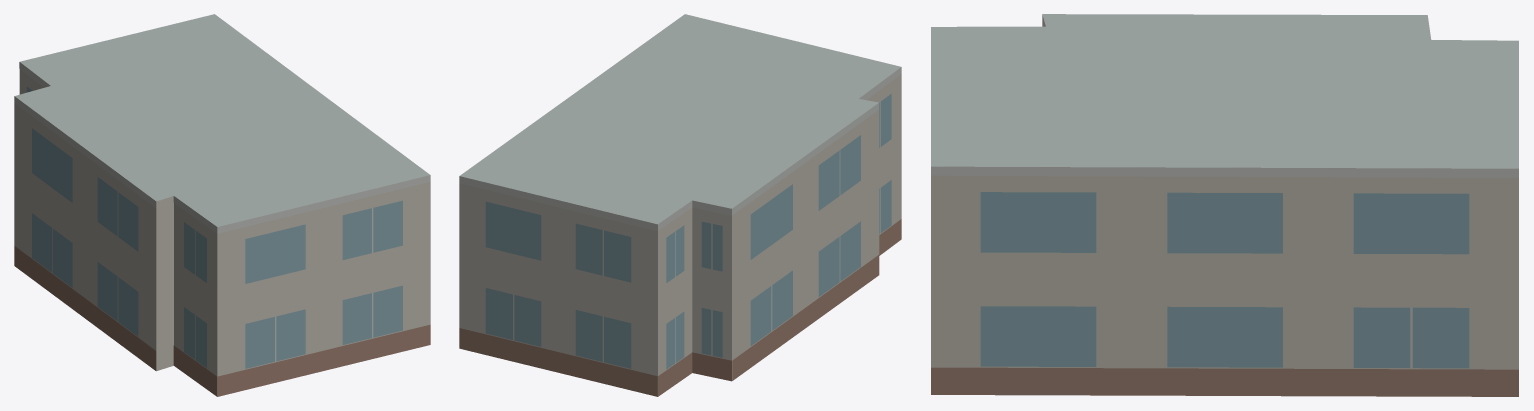
Rendered from survey-upis-32818695.glb.
3 renders of one model, left to right at view 1: azimuth 30°, elevation 25°; view 2: azimuth 150°, elevation 25°; view 3: azimuth 270°, elevation 25°, orthographic. The views are drawn at different scales.
Visible parts, largest first — view 1: survey-upis-32818695.tmp; view 2: survey-upis-32818695.tmp; view 3: survey-upis-32818695.tmp.
Part boxes in pixels (x1,y1,x2,y2): survey-upis-32818695.tmp: (14, 14, 430, 396); survey-upis-32818695.tmp: (459, 14, 901, 396); survey-upis-32818695.tmp: (931, 14, 1518, 396).
Bounding box in the file's own units: 8.88 × 6.1 × 14.27.
